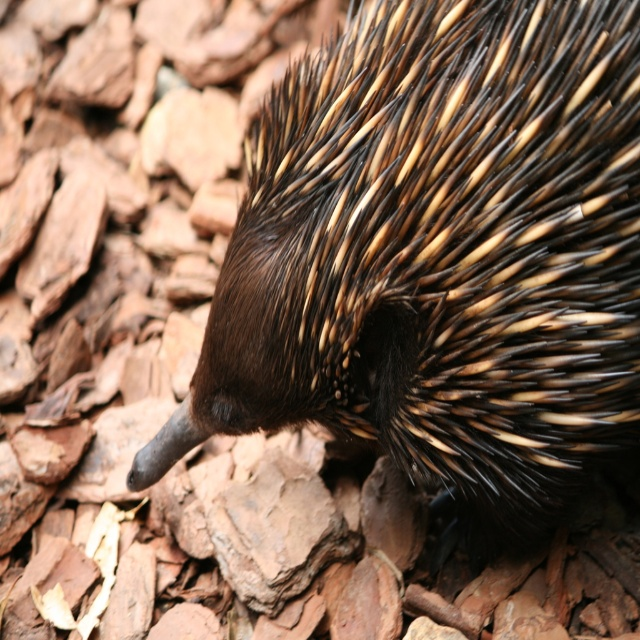Hedgehog: (127, 0, 640, 540)
